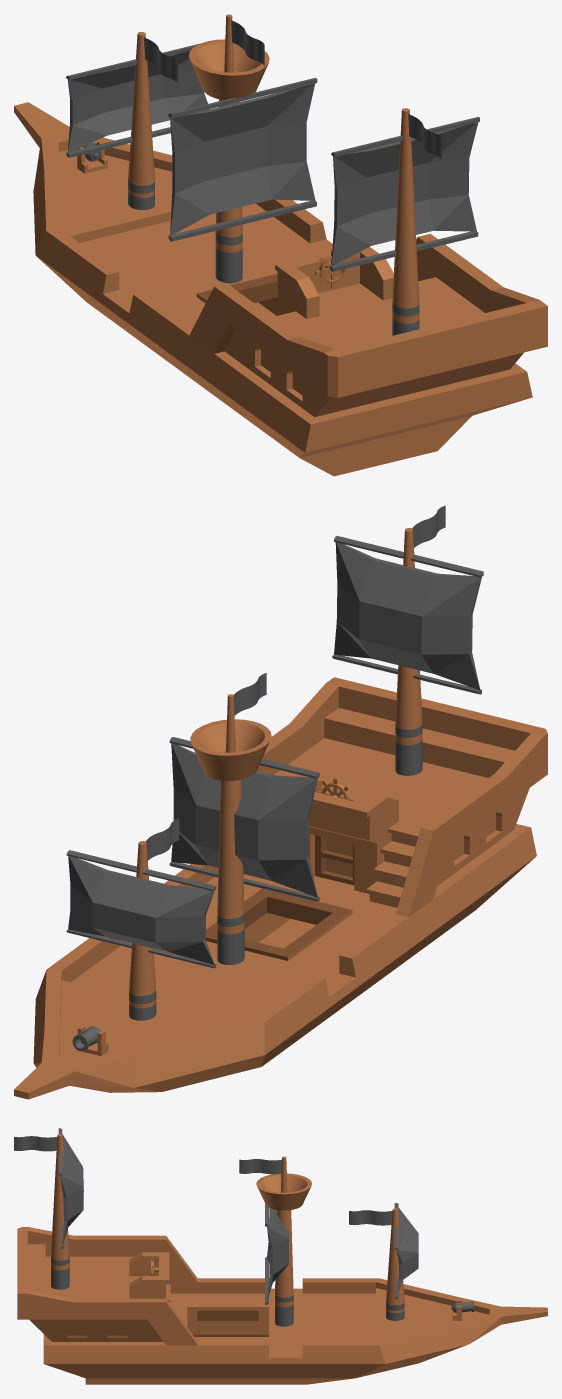
The model's file is ship-large.fbx.
The picture shows the model from 3 angles, top to bottom: view 1: azimuth 30°, elevation 25°; view 2: azimuth 150°, elevation 25°; view 3: azimuth 270°, elevation 25°; orthographic projection. The views are drawn at different scales.
Visible parts, largest first — view 1: ship_dark_8angles, sail_middle, sail_back, sail_front; view 2: ship_dark_8angles, sail_back, sail_middle, sail_front; view 3: ship_dark_8angles, sail_back, sail_middle, sail_front.
Part boxes in pixels (x1,y1,x2,y2): ship_dark_8angles: [14, 14, 547, 476]; sail_middle: [168, 77, 317, 241]; sail_back: [329, 117, 479, 271]; sail_front: [66, 43, 209, 157]; ship_dark_8angles: [14, 505, 547, 1099]; sail_back: [332, 536, 483, 694]; sail_middle: [169, 737, 319, 901]; sail_front: [66, 850, 216, 968]; ship_dark_8angles: [14, 1134, 547, 1384]; sail_back: [58, 1128, 83, 1249]; sail_middle: [265, 1203, 288, 1304]; sail_front: [394, 1203, 418, 1299].
Size of the model in its own units: 42.32 by 65.46 by 136.
